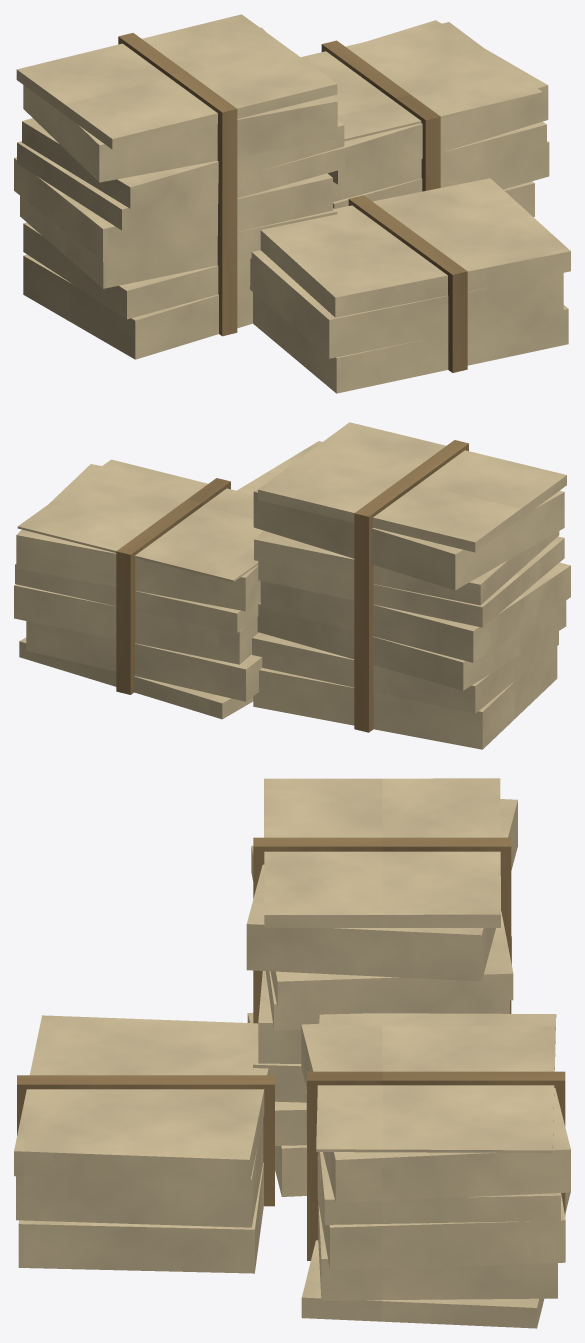
File: Paper_Stack_1.gltf
The picture shows the model from 3 angles, top to bottom: view 1: azimuth 30°, elevation 25°; view 2: azimuth 150°, elevation 25°; view 3: azimuth 270°, elevation 25°; orthographic projection. The views are drawn at different scales.
Visible parts, largest first — view 1: Paper_Stack_1; view 2: Paper_Stack_1; view 3: Paper_Stack_1.
Boxes of the visible parts, box(x1,y1,x2,y2) form: Paper_Stack_1: box(14, 14, 570, 393); Paper_Stack_1: box(14, 422, 570, 749); Paper_Stack_1: box(14, 778, 570, 1328).
Size of the model in its own units: 0.6281 by 0.285 by 0.518.
2 materials, 2 textured.
